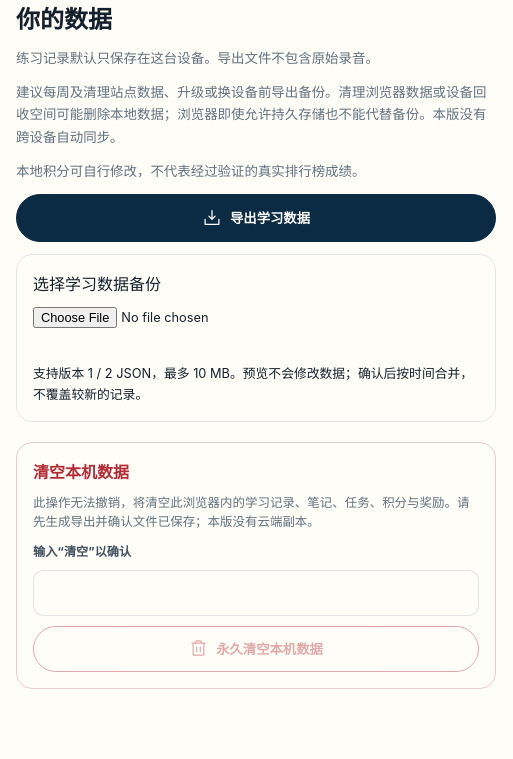
Test: DataControls › offers a versioned JSON export without claiming verified file storage
The image size is (513, 759).
Click the button "导出学习数据": coordinates (256, 218) left=16, top=194, right=496, bottom=242
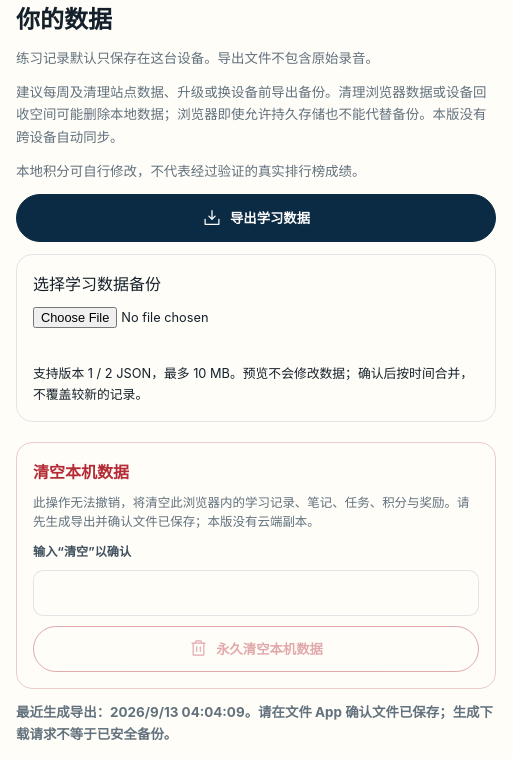
Check: the message shows "最近生成导出", box left=16, top=704, right=493, bottom=742
Check: the message shows "文件 App 确认", box left=16, top=704, right=493, bottom=742
